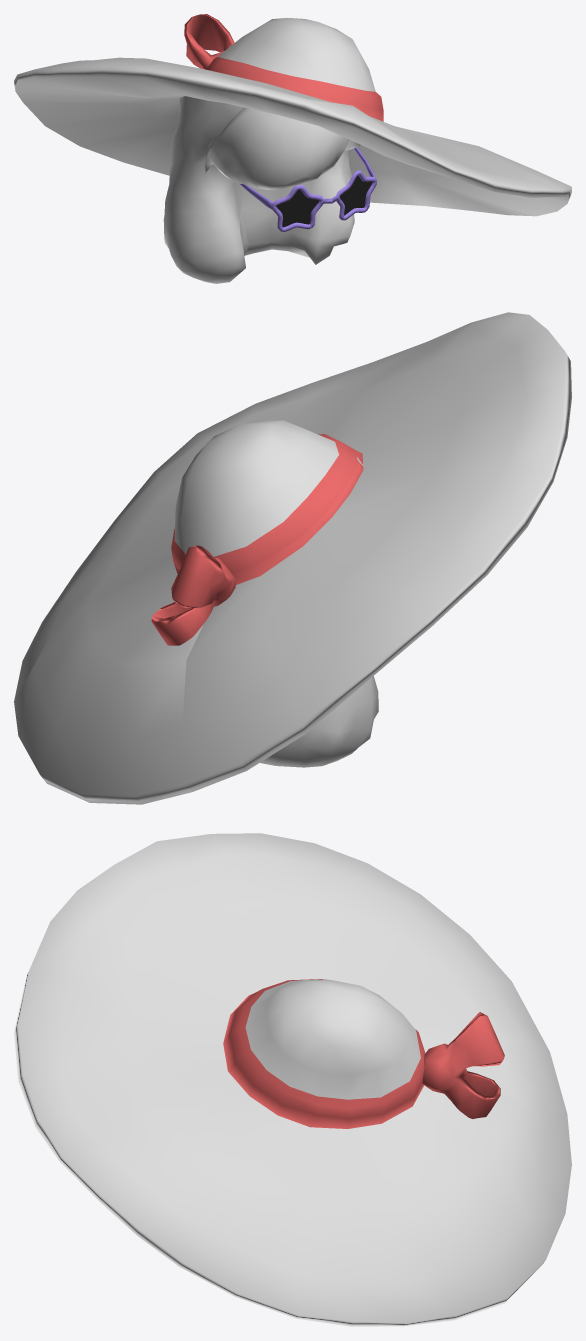
Rendered from LadyGagaGlassesandHat.fbx.
3 renders of one model, top to bottom at view 1: azimuth 30°, elevation 25°; view 2: azimuth 150°, elevation 25°; view 3: azimuth 270°, elevation 25°, orthographic. The views are drawn at different scales.
Visible parts, largest first — view 1: SK_Broad_Brim_B_01.002, SK_HairD.001, Party_Glasses_Star; view 2: SK_Broad_Brim_B_01.002, SK_HairD.001; view 3: SK_Broad_Brim_B_01.002.
Part boxes in pixels (x1,y1,x2,y2): SK_Broad_Brim_B_01.002: (14,14,571,216); SK_HairD.001: (163,96,360,283); Party_Glasses_Star: (240,147,377,231); SK_Broad_Brim_B_01.002: (14,312,571,804); SK_HairD.001: (260,457,378,767); SK_Broad_Brim_B_01.002: (14,833,571,1326).
Size of the model in its own units: 6623 by 4443 by 6939.
